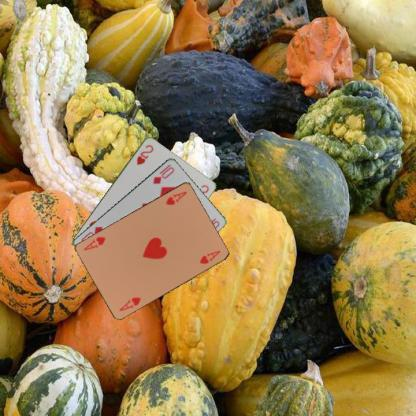10d: (150, 161, 176, 185)
2h: (133, 142, 155, 166)
Ah: (163, 188, 188, 206), (117, 294, 142, 312)
